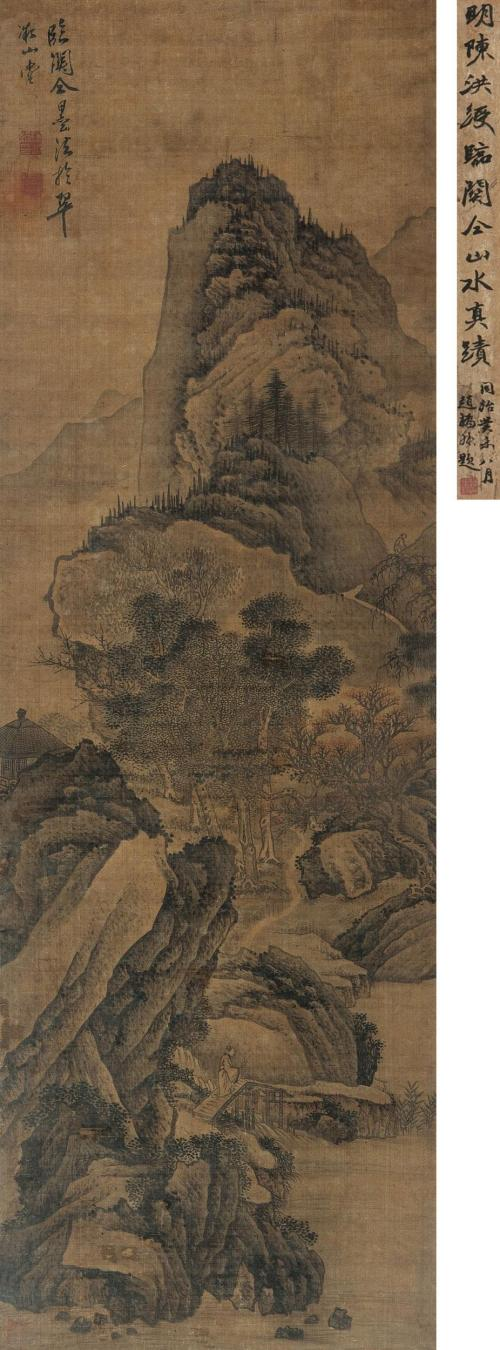man: (212, 1040, 244, 1103)
mountain: (144, 148, 443, 490), (1, 723, 237, 1144), (27, 459, 432, 647), (23, 1123, 340, 1312)
pine: (87, 603, 438, 801), (223, 365, 352, 458)
rock: (237, 1072, 393, 1130)
